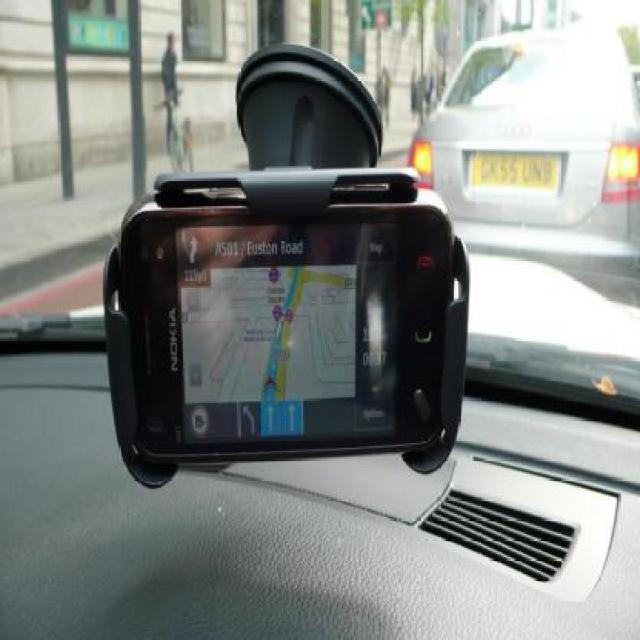License-Plates: (465, 149, 560, 188)
